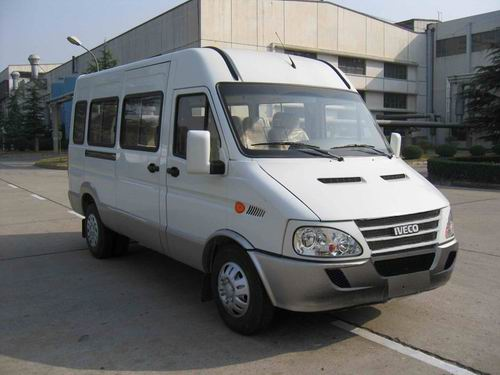midcar: (55, 38, 465, 354)
